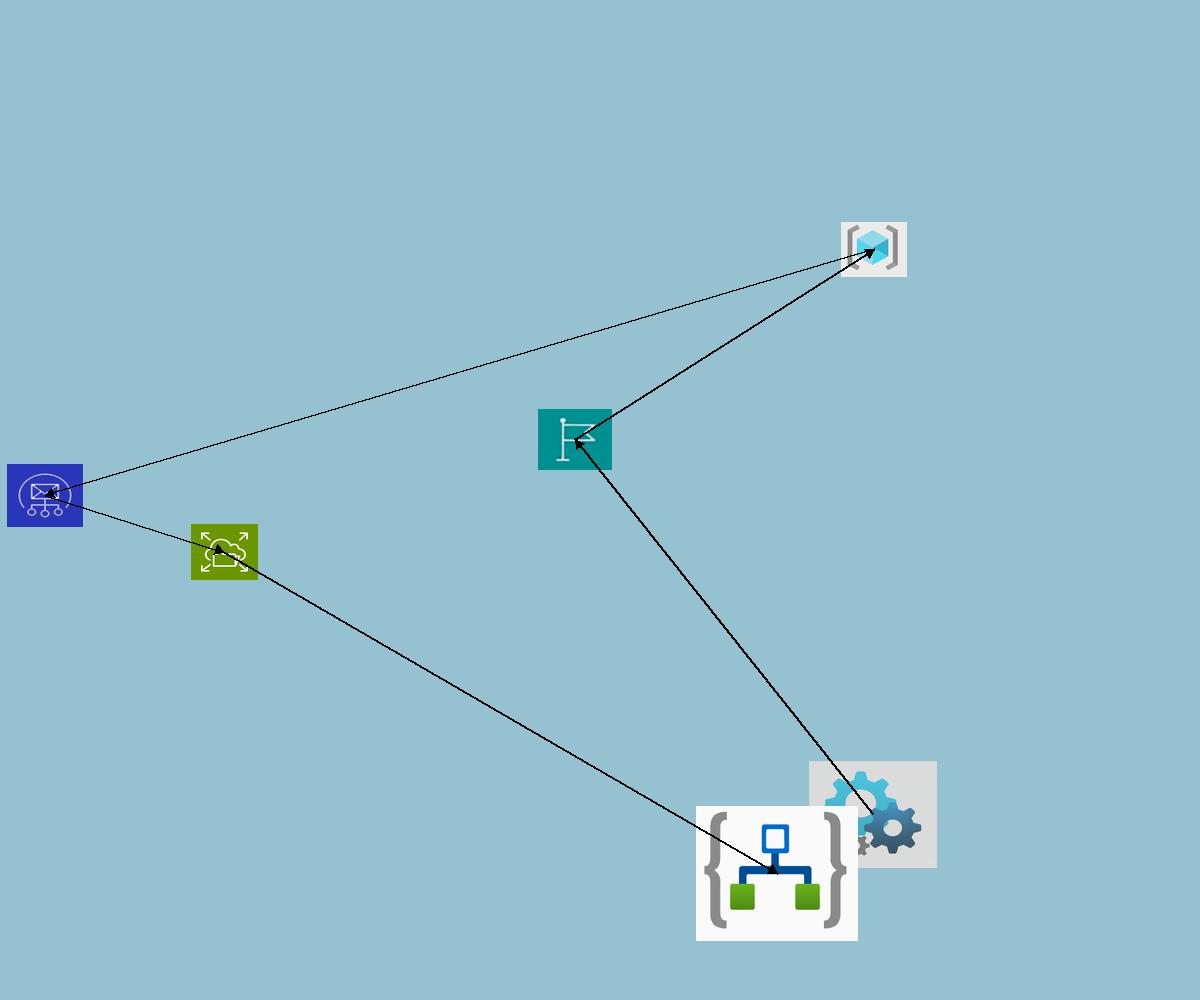AWS-EFS: (191, 524, 258, 580)
AWS-Region: (538, 409, 612, 470)
AWS-Simple-Email-Service: (7, 464, 83, 527)
Azure_api: (809, 761, 937, 868)
Azure_integration-204-Logic-Apps: (696, 806, 858, 941)
Azure_resource_group: (841, 222, 907, 277)
